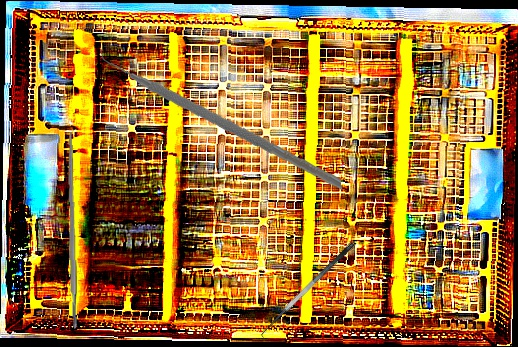Chopper: (99, 17, 342, 206)
Scalpel Handle: (66, 131, 78, 331)
Spatula Surgical: (255, 241, 363, 343)
